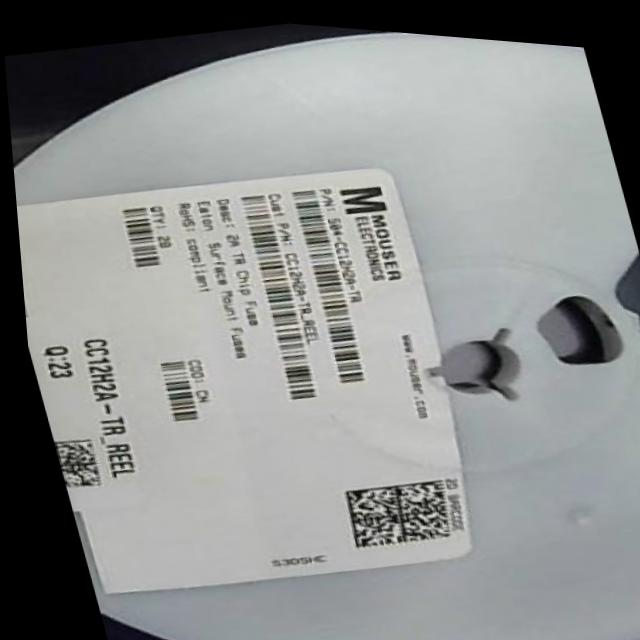datamatrix: (327, 464, 458, 555), (46, 434, 100, 494)
